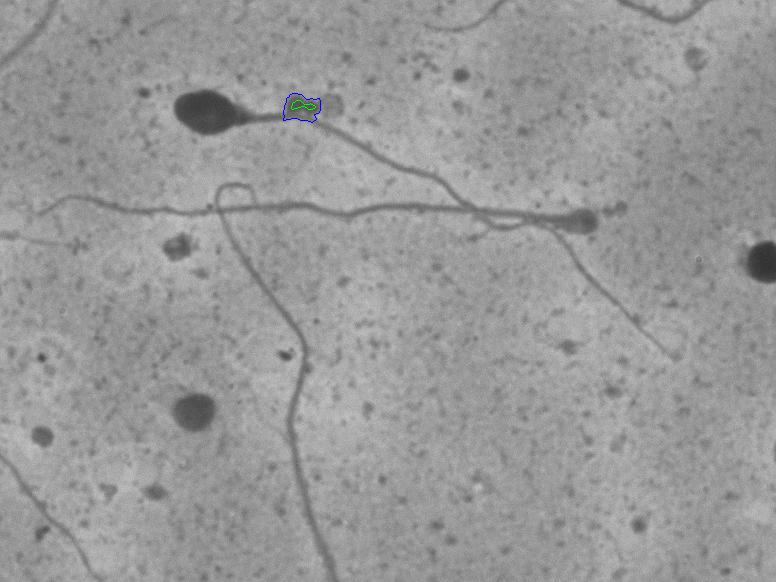Normal: (149, 62, 703, 380)
